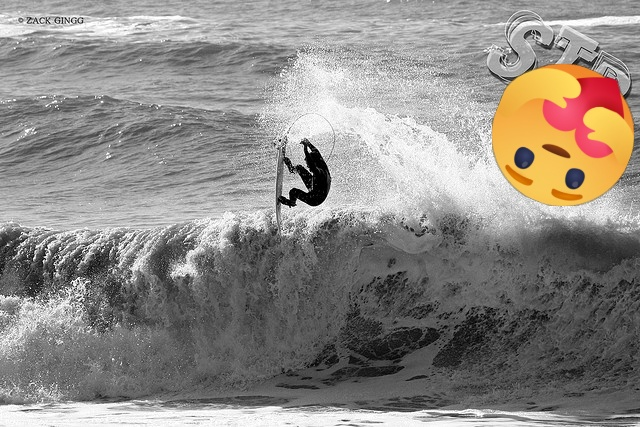care: (492, 64, 634, 206)
